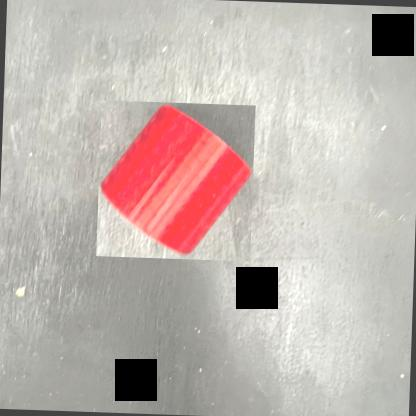red cylinder: (97, 101, 256, 262)
